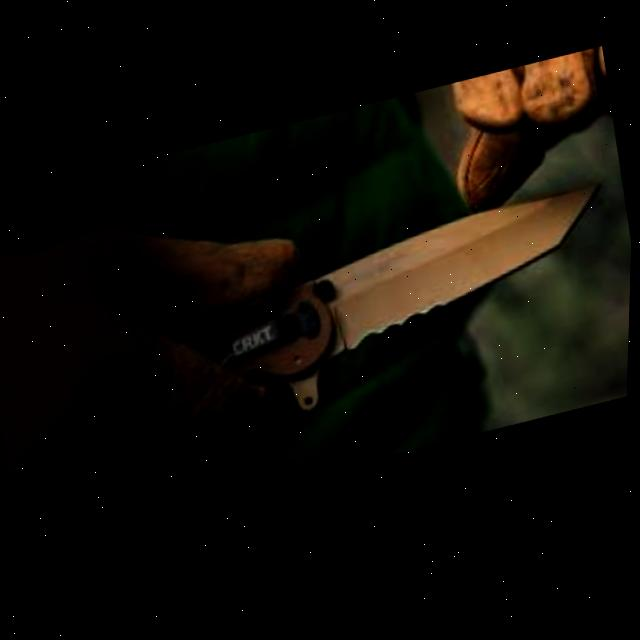Knife: (166, 187, 630, 447)
